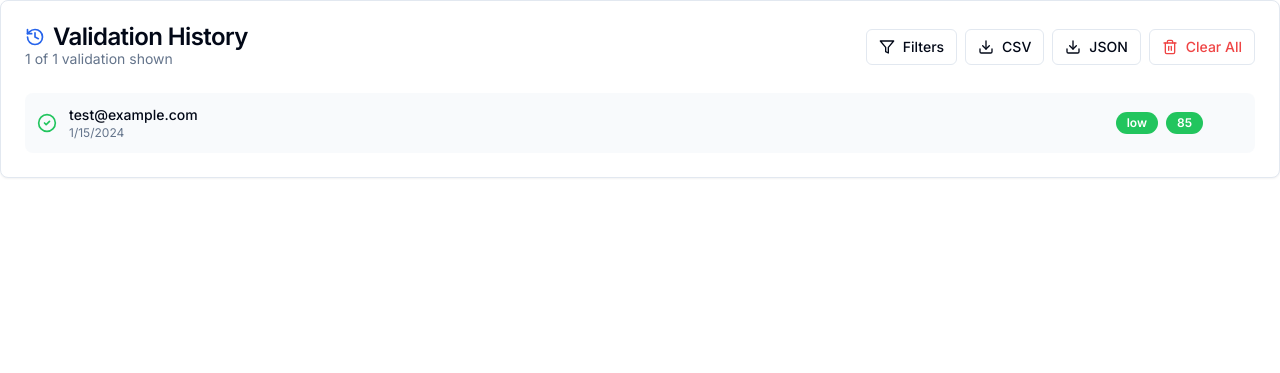
Test: ValidationHistory › search and filter › shows filter panel when Filters button is clicked
This screenshot has width=1280, height=373.
Click the button "Filters" at (911, 47), box [866,29,957,65]
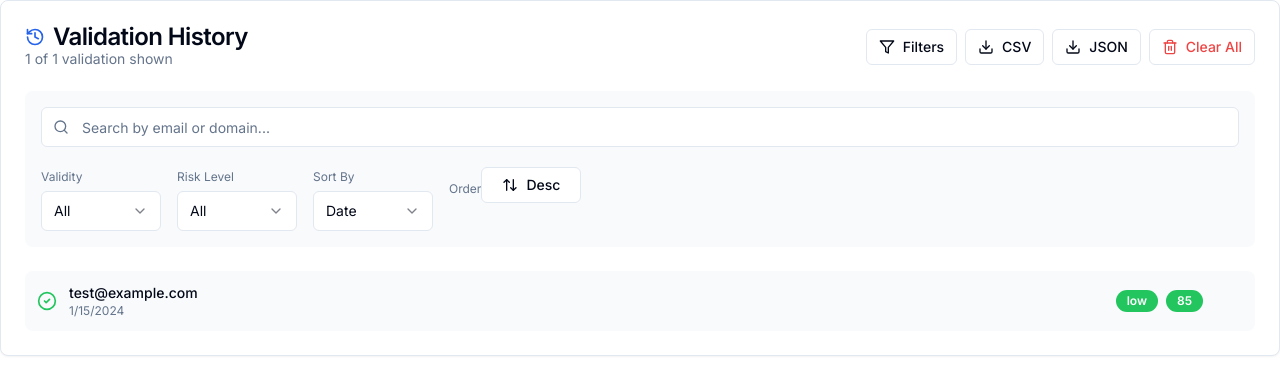
Result: the field with placeholder "Search by email or domain..." is shown at [41,107,1239,147]
